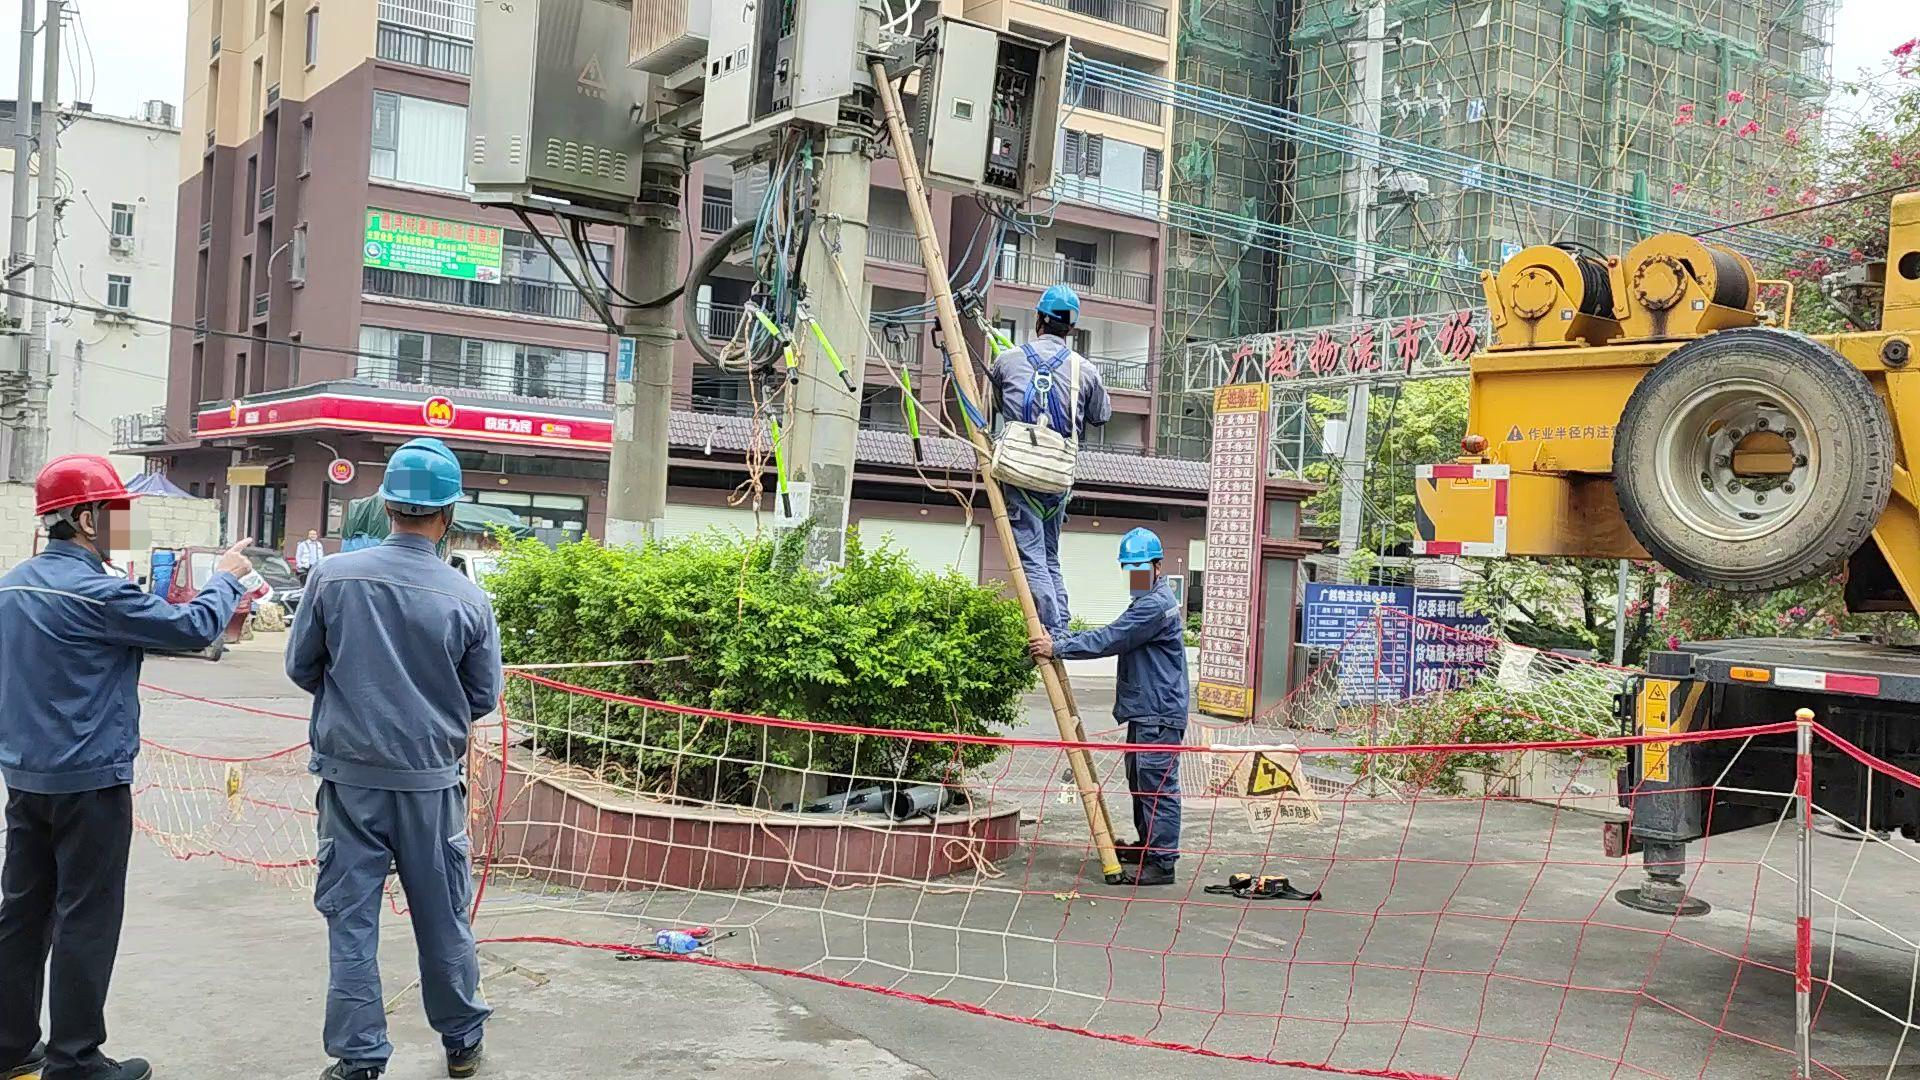halt: (36, 458, 140, 560), (381, 439, 468, 531), (1117, 531, 1168, 593), (1036, 286, 1083, 338)
inear: (66, 504, 108, 547)
